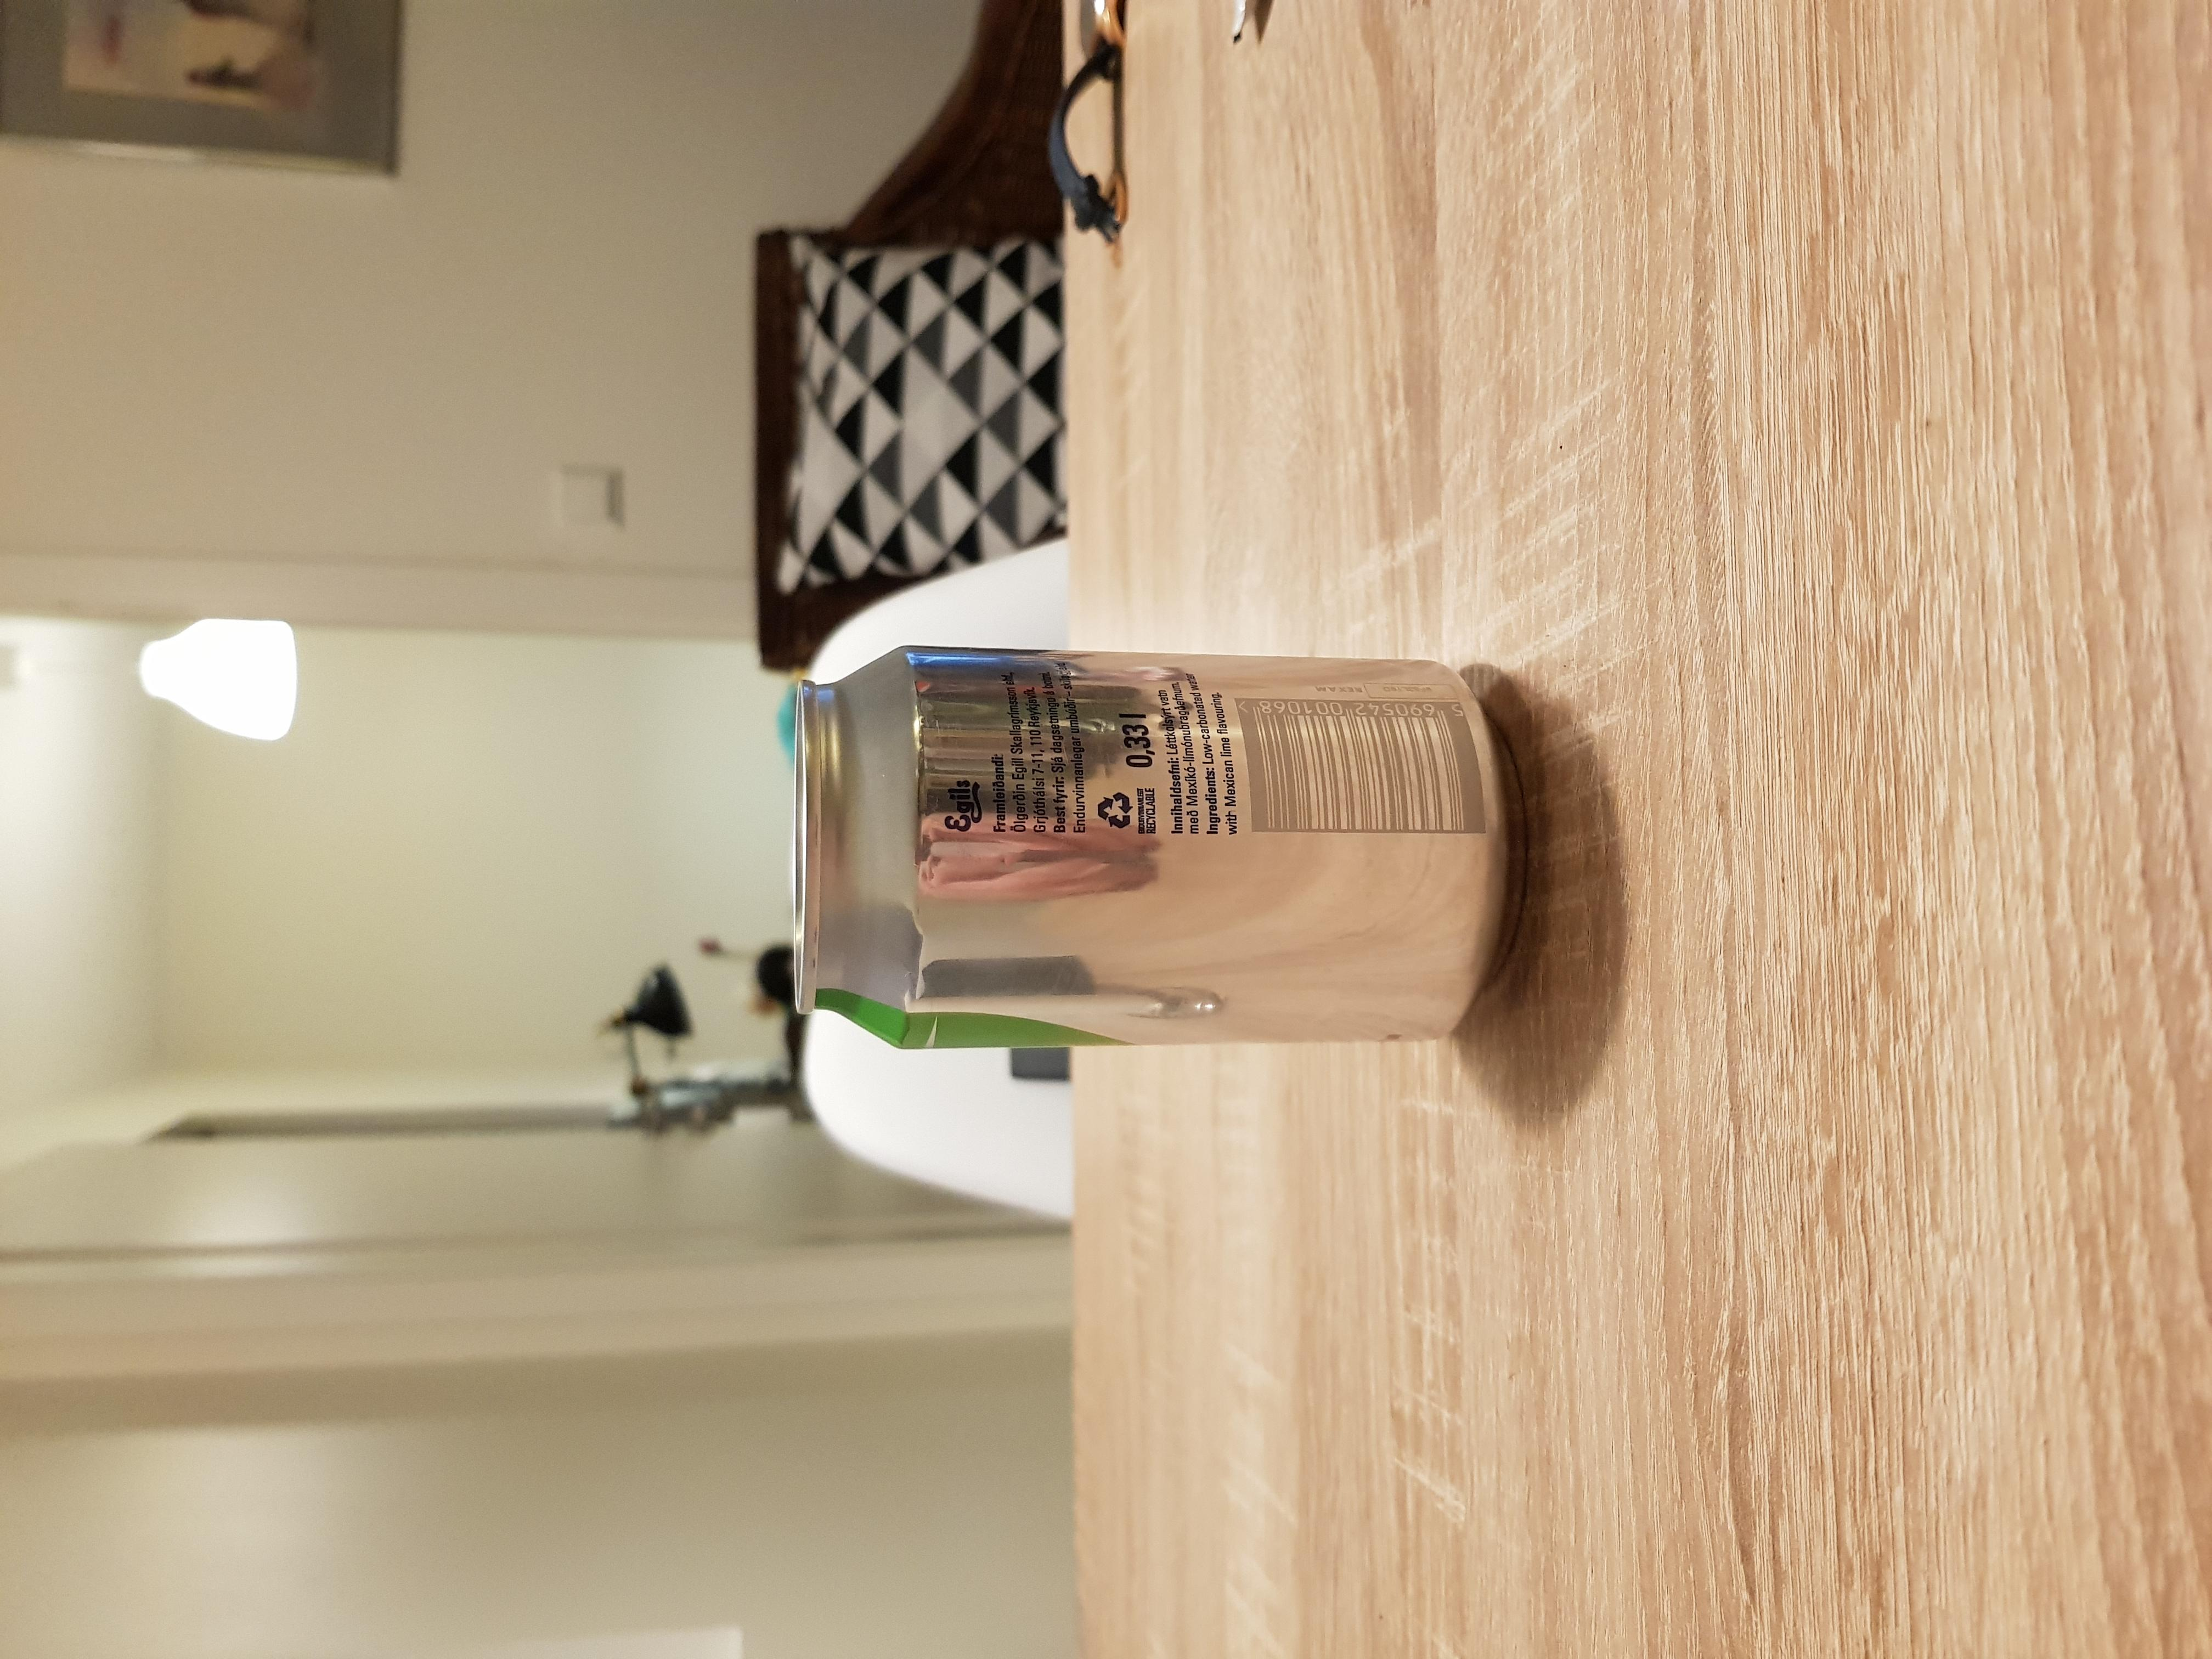can: (784, 640, 1501, 1049)
